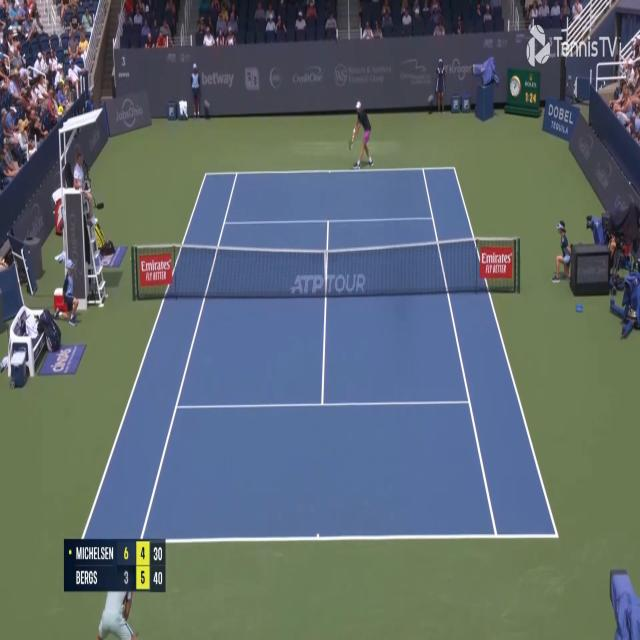tennis-player: (94, 582, 138, 640), (348, 97, 375, 173)
